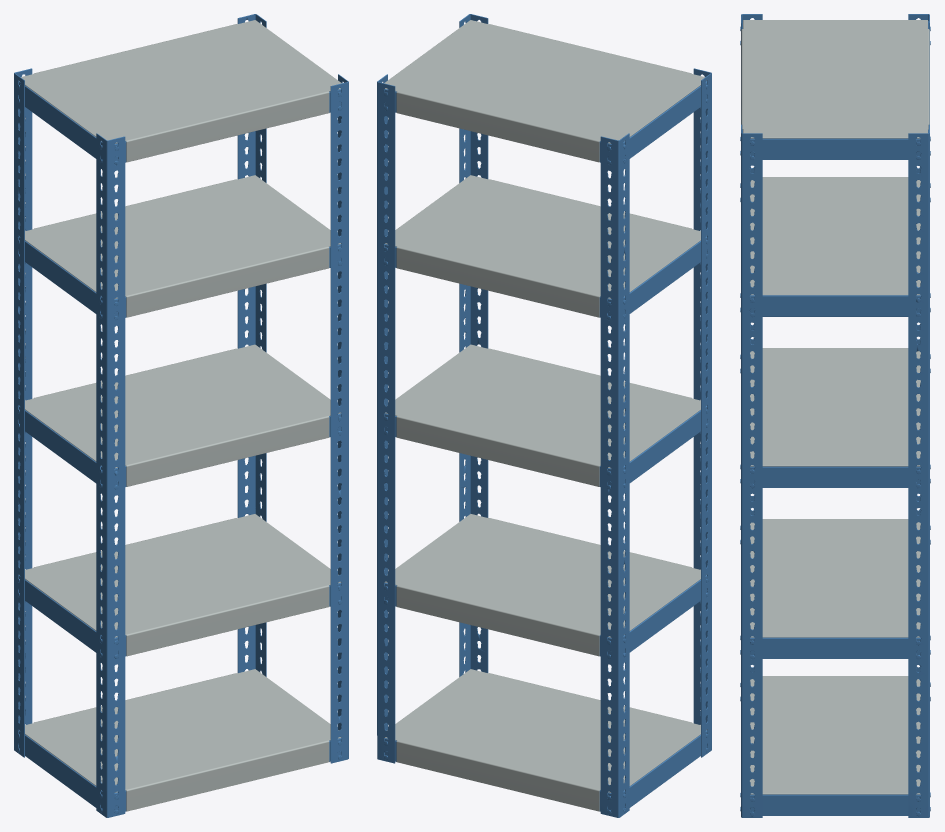
The model's file is shelve_steel_heavyDuty_a06.glb.
3 renders of one model, left to right at view 1: azimuth 30°, elevation 25°; view 2: azimuth 150°, elevation 25°; view 3: azimuth 270°, elevation 25°, orthographic.
Bounding box in the file's own units: 0.9196 × 2.44 × 0.6148.
